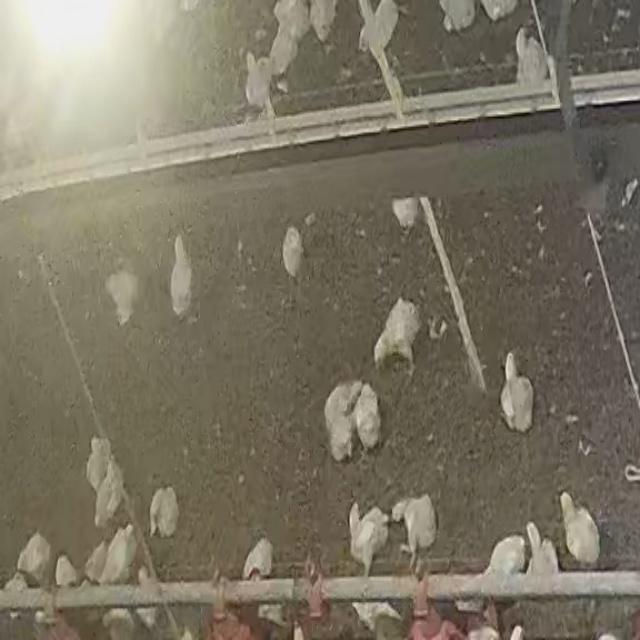chicken: (375, 295, 424, 370), (496, 351, 540, 434), (392, 493, 437, 570), (347, 501, 390, 578), (559, 491, 601, 568), (355, 0, 412, 47), (244, 52, 276, 122), (354, 384, 386, 454), (515, 27, 549, 90), (97, 460, 127, 531), (15, 530, 53, 586), (169, 234, 194, 318), (524, 521, 560, 578), (485, 534, 528, 578), (105, 270, 138, 325), (320, 373, 360, 418), (149, 485, 180, 539), (242, 536, 275, 580), (323, 416, 352, 463), (282, 226, 305, 280)
